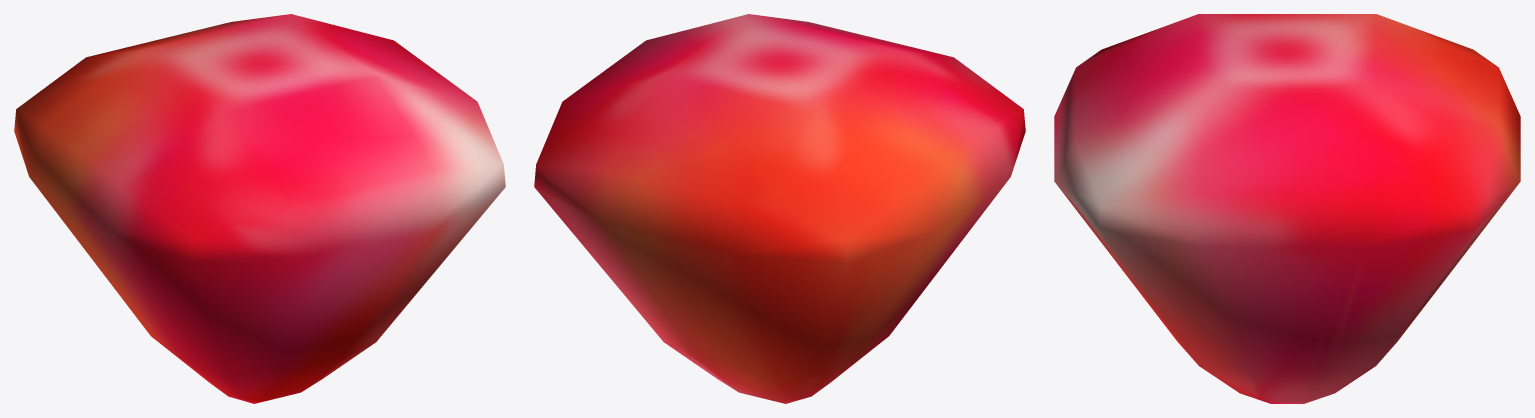
Rendered from diamond_2.fbx.
The picture shows the model from 3 angles, left to right: view 1: azimuth 30°, elevation 25°; view 2: azimuth 150°, elevation 25°; view 3: azimuth 270°, elevation 25°; orthographic projection. The views are drawn at different scales.
Parts seen in each view (by area): view 1: Cube.002; view 2: Cube.002; view 3: Cube.002.
Part boxes in pixels (<box>): Cube.002: <box>14,14,505,403</box>; Cube.002: <box>534,14,1025,403</box>; Cube.002: <box>1054,14,1520,403</box>.
Bounding box in the file's own units: 0.0922 × 0.0754 × 0.0922.
